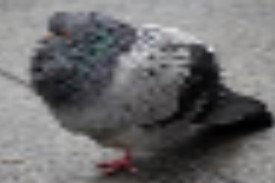pigeon: (26, 10, 271, 178)
